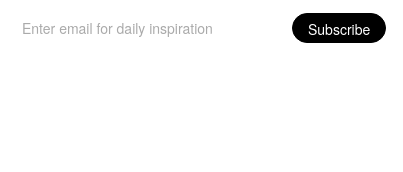
it: FooterForm › keeps the button locked until the text looks like an email
Expected: the button "Subscribe" is disabled, top-left (292, 13), bottom-right (386, 43)
Type "nobody@" into the field with placeholder "Enter email for daily inspiration".
click(147, 28); type("nobody@")  # box top-left (12, 12), bottom-right (282, 42)
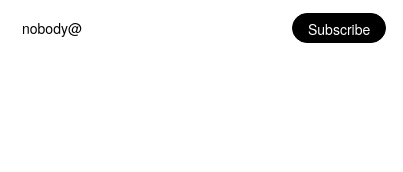
Expected: the button "Subscribe" is disabled, top-left (292, 13), bottom-right (386, 43)
Type "example.com" into the field with placeholder "Enter email for daily inspiration".
click(147, 28); type("example.com")  # box top-left (12, 12), bottom-right (282, 42)
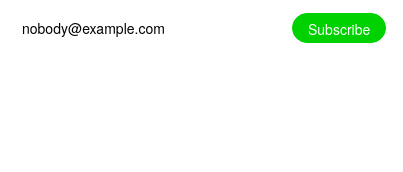
Expected: the button "Subscribe" is enabled, top-left (292, 13), bottom-right (386, 43)
